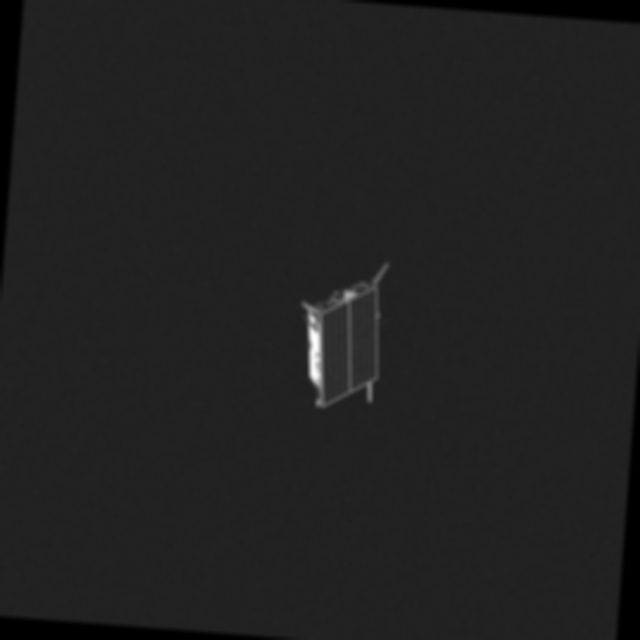satellite: (293, 259, 404, 422)
